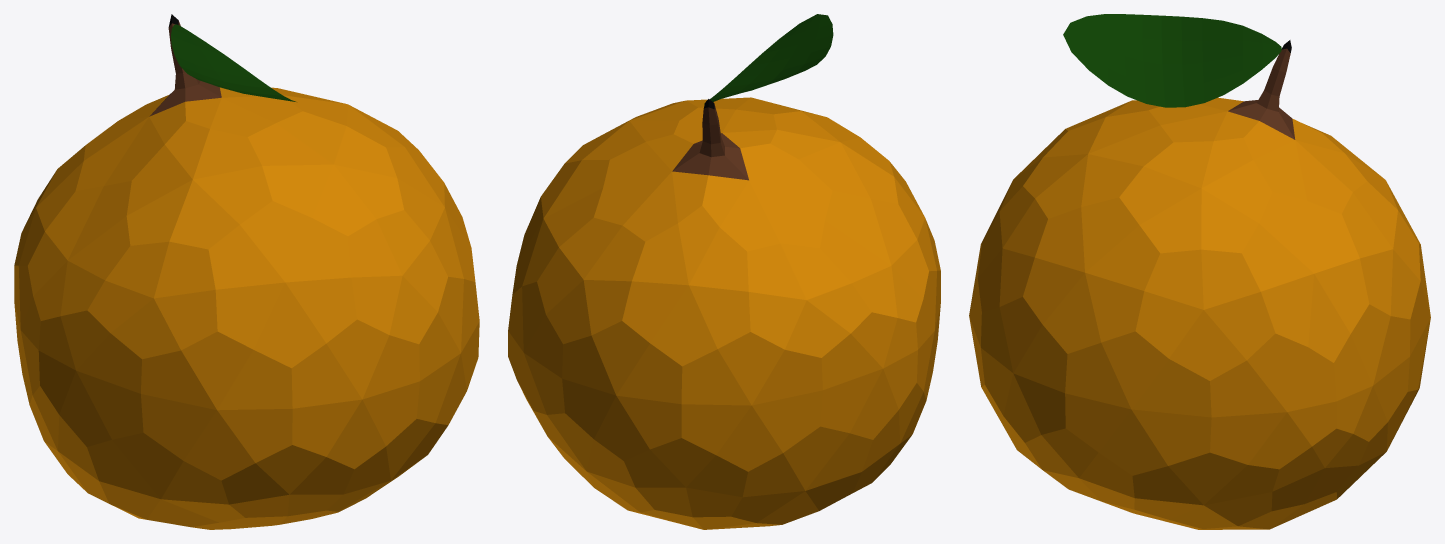
Rendered from orange_0.fbx.
The picture shows the model from 3 angles, left to right: view 1: azimuth 30°, elevation 25°; view 2: azimuth 150°, elevation 25°; view 3: azimuth 270°, elevation 25°; orthographic projection. The views are drawn at different scales.
Parts seen in each view (by area): view 1: orange_0; view 2: orange_0; view 3: orange_0.
Boxes of the visible parts, x1,y1,x2,y2 form: orange_0: (14, 14, 479, 529); orange_0: (508, 14, 940, 529); orange_0: (969, 14, 1430, 529).
Size of the model in its own units: 180 by 204 by 184.
